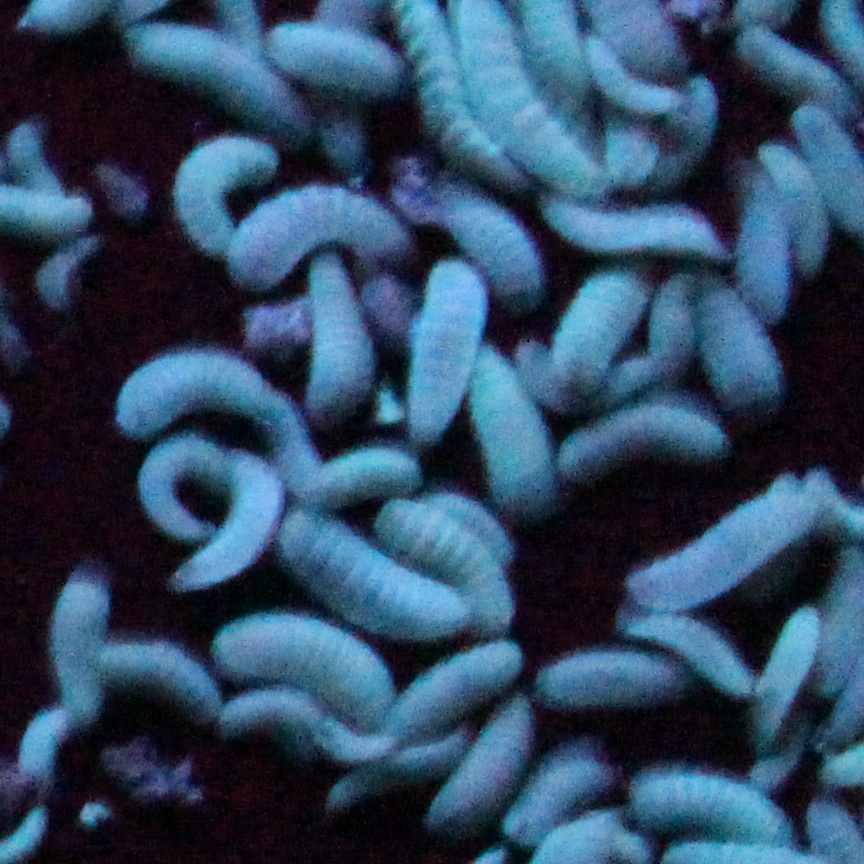larve: (634, 470, 817, 610), (293, 526, 467, 634), (214, 183, 410, 274), (222, 624, 388, 722), (389, 497, 514, 626), (127, 32, 284, 122), (461, 356, 549, 503), (617, 607, 770, 690), (113, 356, 275, 433), (445, 703, 542, 830), (690, 279, 780, 412), (409, 270, 481, 436), (386, 644, 528, 727), (183, 462, 275, 590), (562, 405, 727, 475), (544, 274, 651, 380), (303, 260, 369, 429), (730, 28, 846, 123), (633, 771, 778, 846), (277, 17, 401, 101), (546, 202, 722, 260), (450, 197, 535, 316), (578, 40, 702, 120), (175, 137, 267, 244), (106, 640, 224, 723), (536, 644, 688, 706), (54, 578, 117, 719), (144, 434, 225, 541), (754, 617, 821, 745), (734, 172, 790, 320), (298, 446, 422, 510), (766, 151, 826, 274)
